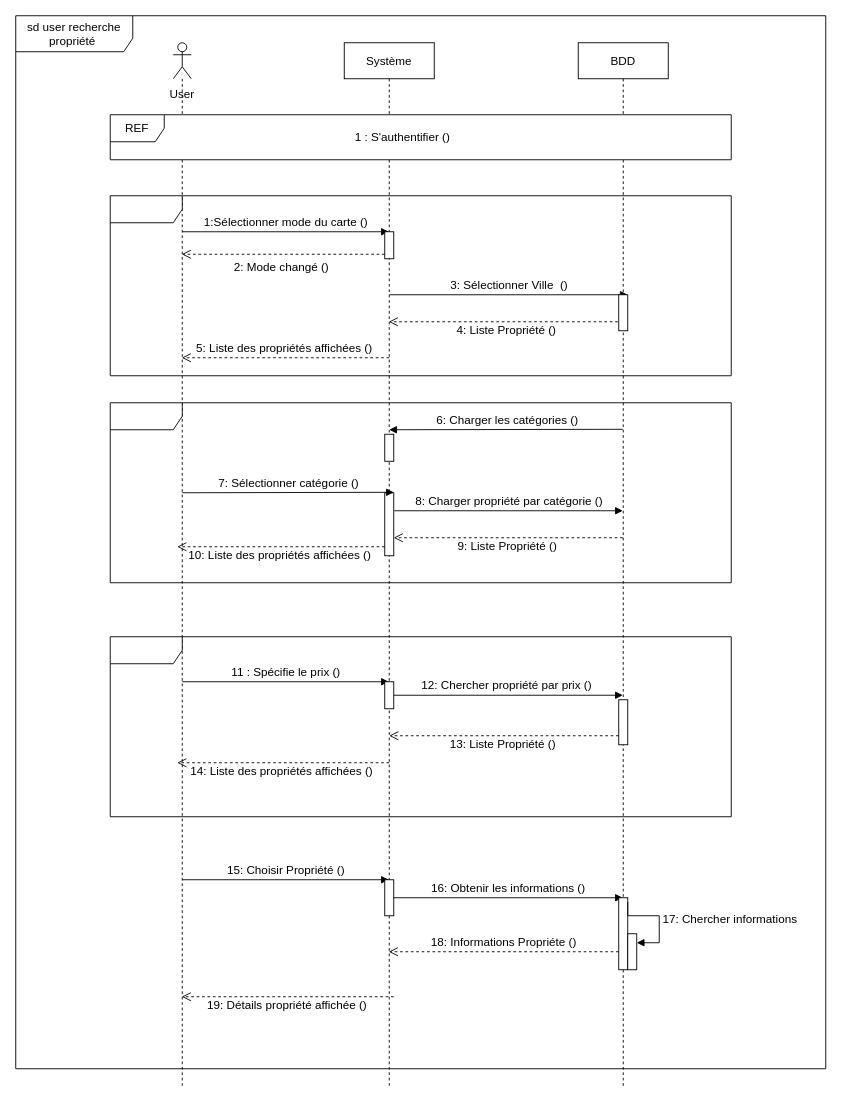
This 842x1103 diagram has some shape labels left out. Here are the shapes that lost their labels. From the top down, the centre of each, then its label:
At point (420, 285): "opt recherche sur carte".
At point (420, 492): "opt recherche par catégorie".
At point (420, 726): "opt recherche par prix".
